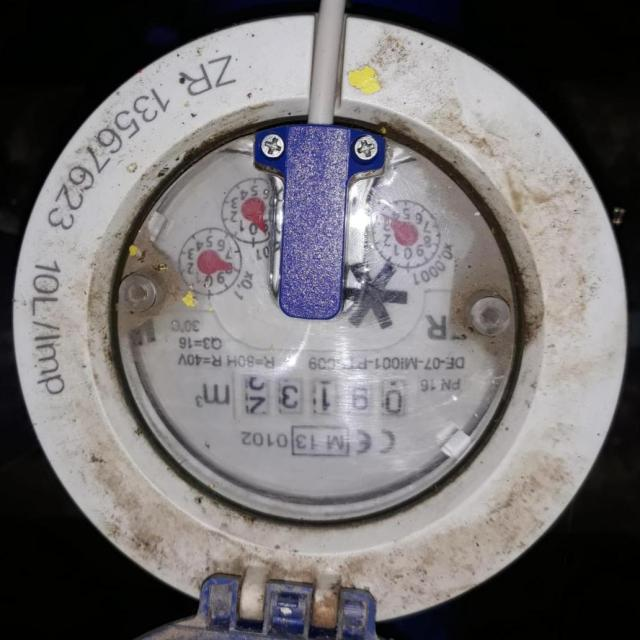gaz_meter: (123, 116, 517, 511)
indication: (235, 371, 421, 422)
